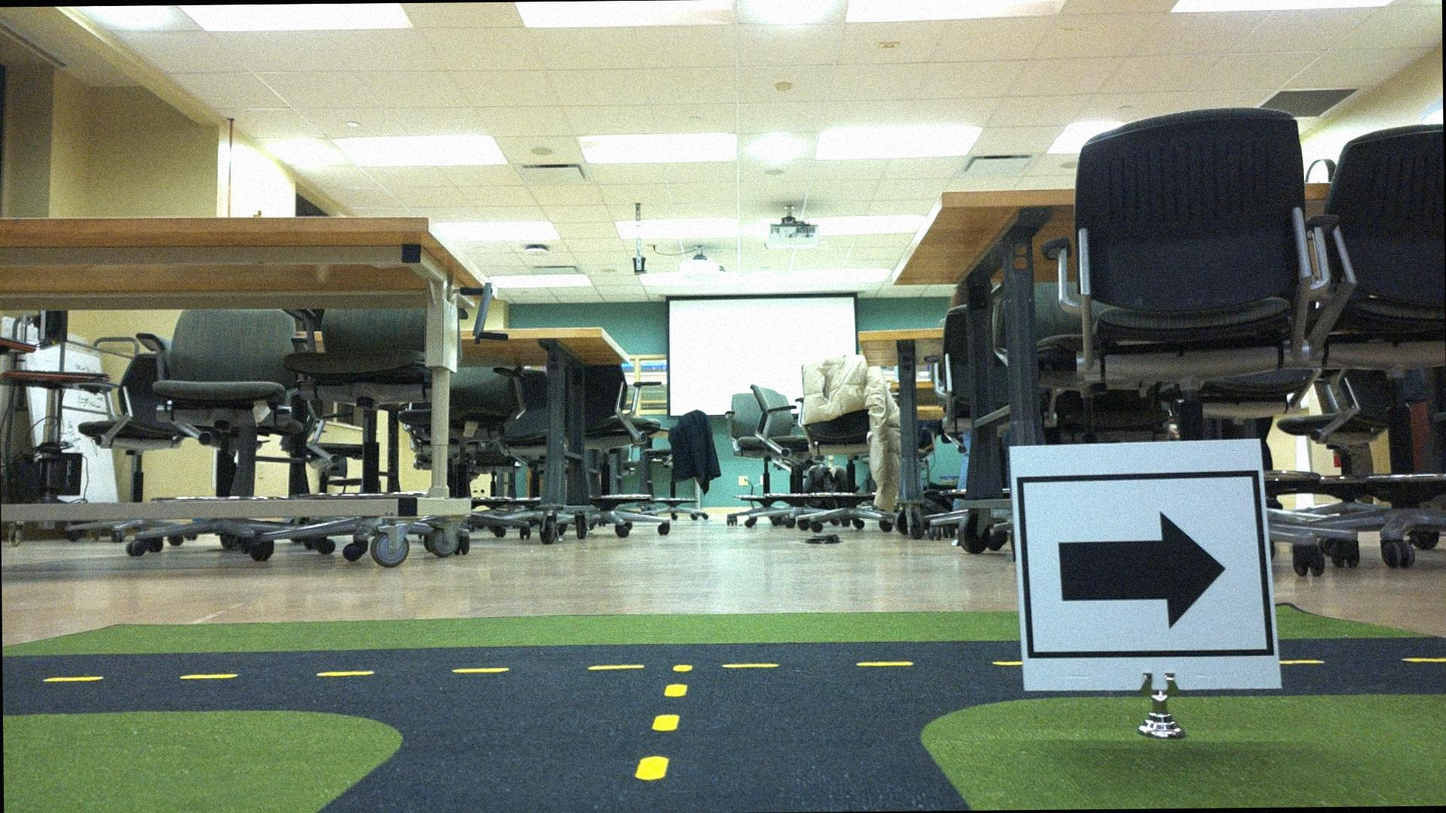turnleft: (1017, 445, 1269, 676)
yellowline: (44, 658, 1007, 681), (635, 680, 689, 784)
